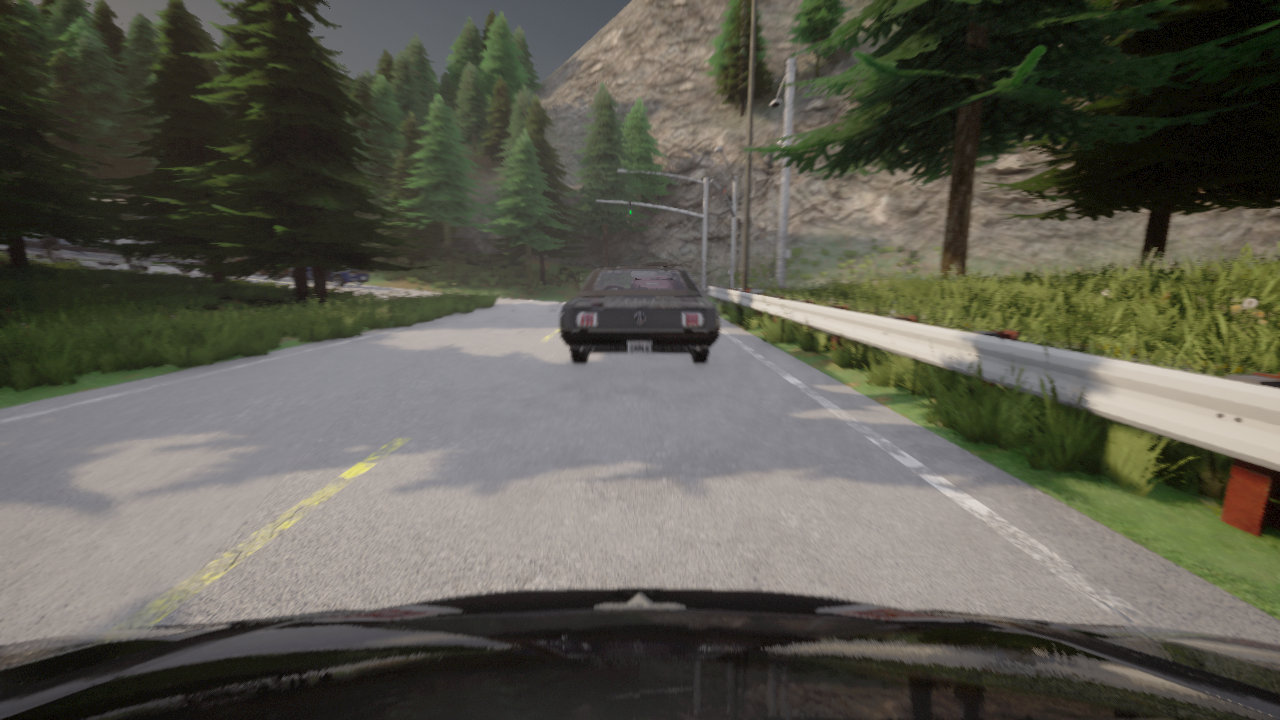cyclist: (0, 588, 1279, 719), (560, 267, 719, 363), (23, 198, 204, 273), (289, 265, 369, 286), (640, 262, 696, 285), (232, 257, 290, 279), (197, 261, 226, 276)
